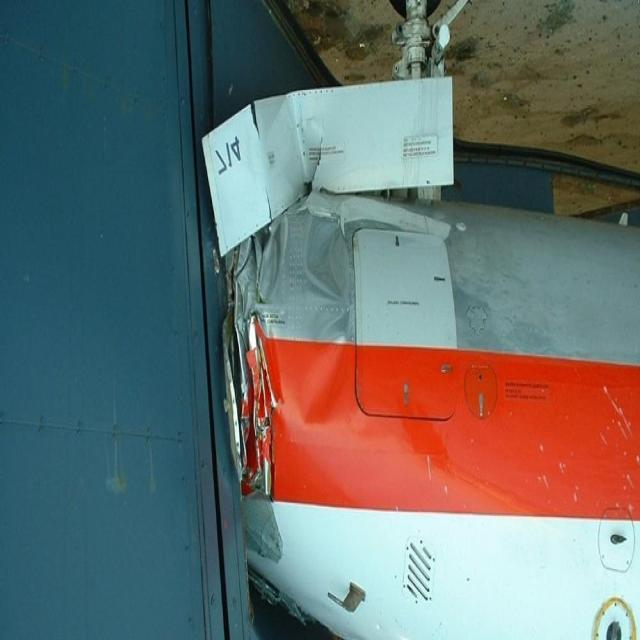dent: (297, 210, 359, 435)
